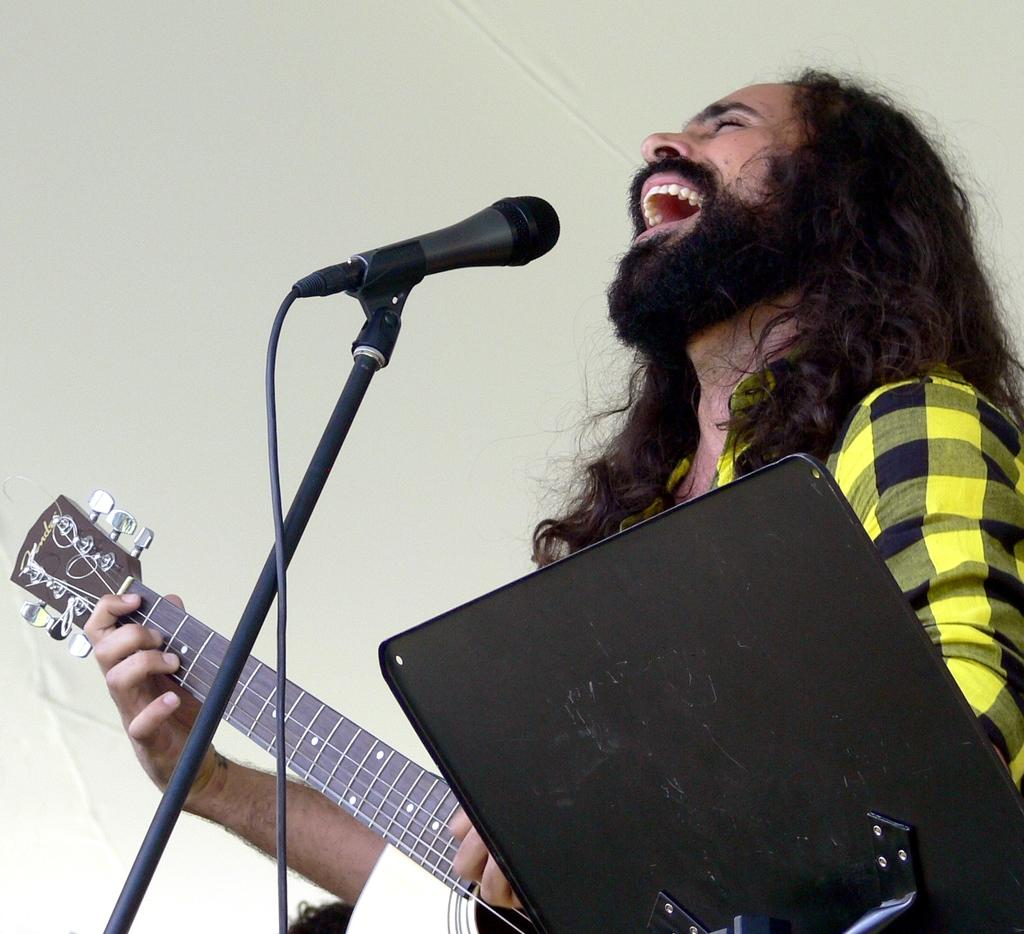Laptop: (376, 445, 1021, 933)
